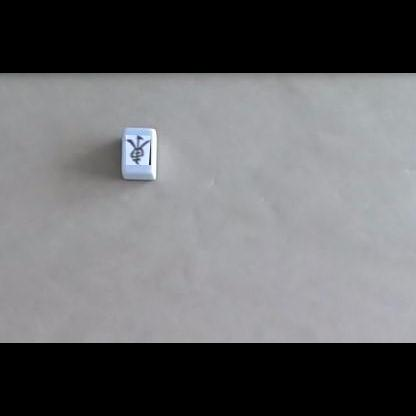1z: (126, 135, 151, 165)
